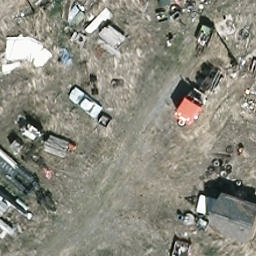car: (66, 87, 105, 119)
truck: (170, 67, 229, 127)
